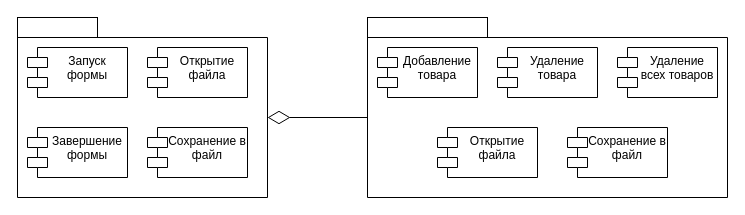
Some shapes in this 745 by 215 pixel diagram are drawn without their labels. Each missing label, with the centre of its shape:
Пользователь: (427,27)
Система: (57,27)
